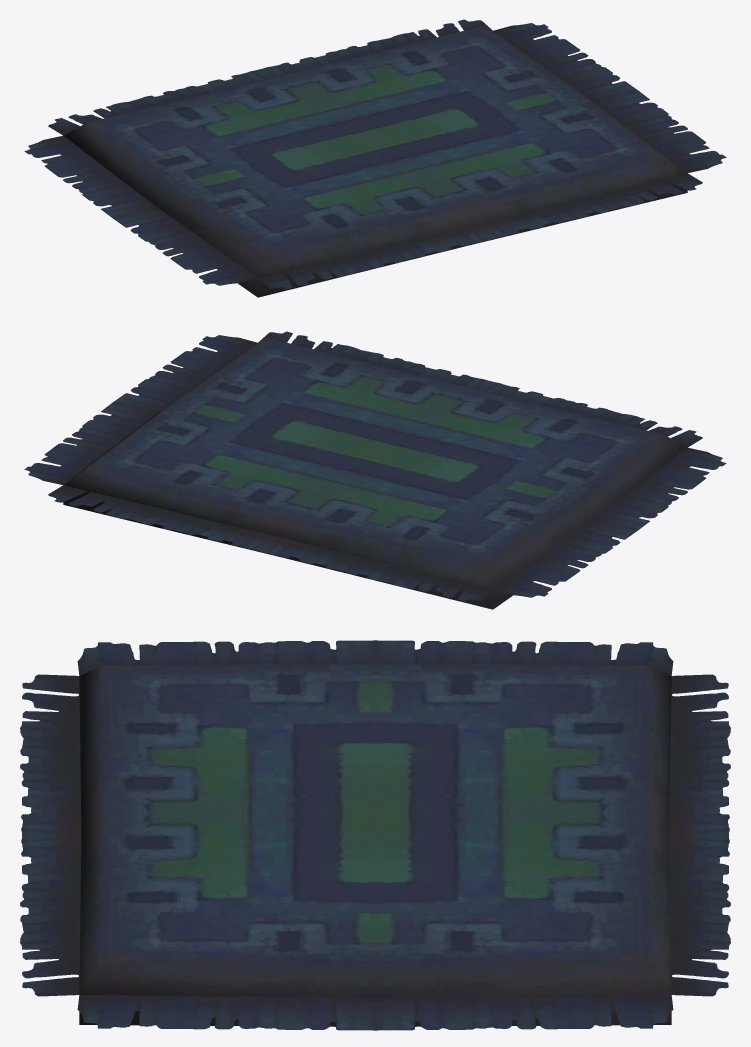
3 renders of one model, top to bottom at view 1: azimuth 30°, elevation 25°; view 2: azimuth 150°, elevation 25°; view 3: azimuth 270°, elevation 25°, orthographic. The views are drawn at different scales.
Size of the model in its own units: 3.53 by 0.2185 by 2.73.
Materials: 1 (1 with a texture image).
